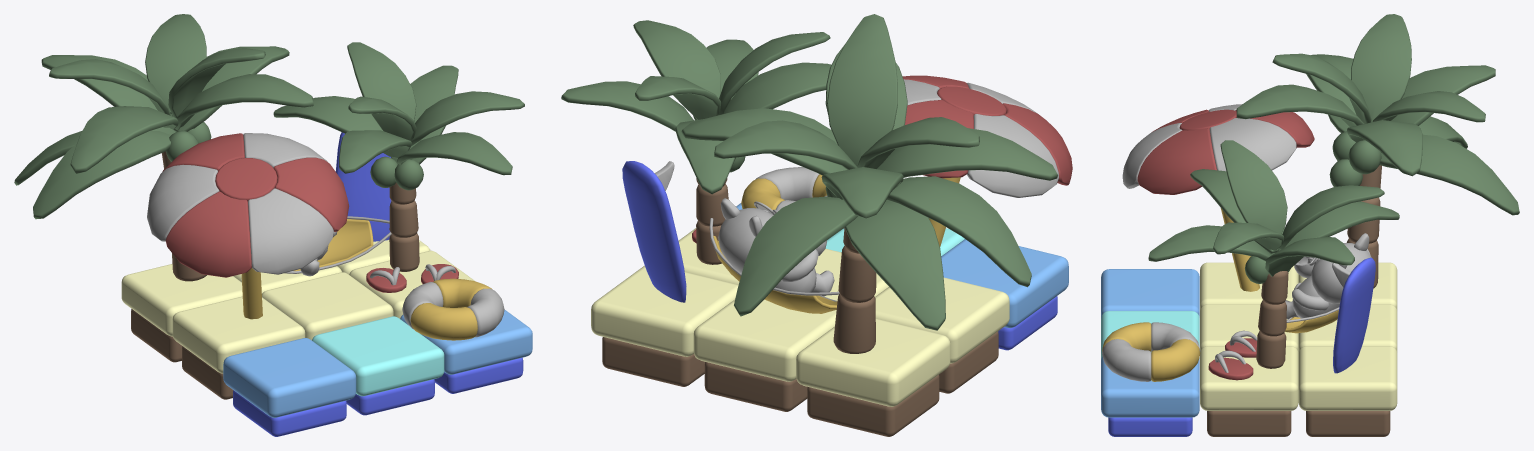
File: PalmTreeHammock_Fix.fbx
The picture shows the model from 3 angles, left to right: view 1: azimuth 30°, elevation 25°; view 2: azimuth 150°, elevation 25°; view 3: azimuth 270°, elevation 25°; orthographic projection. The views are drawn at different scales.
Parts seen in each view (by area): view 1: M_PalmTreeHammock_14, M_PalmTreeHammock_11, M_PalmTreeHammock_12, S_PalmTreeHammock_33, S_PalmTreeHammock_27, M_PalmTreeHammock_10, M_PalmTreeHammock_17, S_PalmTreeHammock_12, S_PalmTreeHammock_17, S_PalmTreeHammock_18, M_PalmTreeHammock_15, S_PalmTreeHammock_32 (+37 smaller); view 2: M_PalmTreeHammock_17, M_PalmTreeHammock_18, S_PalmTreeHammock_16, S_PalmTreeHammock_11, M_PalmTreeHammock_16, S_PalmTreeHammock_10, S_PalmTreeHammock_12, M_PalmTreeHammock_3, M_PalmTreeHammock_14, M_PalmTreeHammock_12, S_PalmTreeHammock_17, M_PalmTreeHammock_28 (+33 smaller); view 3: M_PalmTreeHammock_18, M_PalmTreeHammock_13, S_PalmTreeHammock_15, M_PalmTreeHammock_14, M_PalmTreeHammock_15, S_PalmTreeHammock_23, S_PalmTreeHammock_10, S_PalmTreeHammock_31, M_PalmTreeHammock_3, S_PalmTreeHammock_29, S_PalmTreeHammock_19, S_PalmTreeHammock_38 (+36 smaller).
Part boxes in pixels (box(x1,y1,x2,y2)): M_PalmTreeHammock_14: box(223, 338, 356, 417); M_PalmTreeHammock_11: box(312, 316, 444, 396); M_PalmTreeHammock_12: box(172, 296, 305, 373); S_PalmTreeHammock_33: box(165, 191, 251, 277); S_PalmTreeHammock_27: box(248, 188, 333, 274); M_PalmTreeHammock_10: box(262, 272, 393, 340); M_PalmTreeHammock_17: box(121, 264, 242, 336); S_PalmTreeHammock_12: box(33, 130, 170, 219); S_PalmTreeHammock_17: box(70, 106, 178, 173); S_PalmTreeHammock_18: box(145, 14, 206, 114); M_PalmTreeHammock_15: box(400, 310, 532, 374); S_PalmTreeHammock_32: box(147, 164, 219, 241); M_PalmTreeHammock_17: box(796, 318, 950, 406); M_PalmTreeHammock_18: box(591, 265, 738, 356); S_PalmTreeHammock_16: box(827, 14, 897, 166); S_PalmTreeHammock_11: box(845, 200, 945, 330); M_PalmTreeHammock_16: box(693, 299, 836, 381); S_PalmTreeHammock_10: box(734, 196, 857, 316); S_PalmTreeHammock_12: box(886, 176, 1031, 287); M_PalmTreeHammock_3: box(622, 161, 686, 302); M_PalmTreeHammock_14: box(941, 239, 1068, 328); M_PalmTreeHammock_12: box(875, 277, 1009, 363); S_PalmTreeHammock_17: box(877, 128, 1057, 180); M_PalmTreeHammock_28: box(807, 375, 939, 436); M_PalmTreeHammock_18: box(1298, 346, 1397, 410); M_PalmTreeHammock_13: box(1200, 346, 1298, 410); S_PalmTreeHammock_15: box(1351, 14, 1411, 122); M_PalmTreeHammock_14: box(1101, 269, 1199, 318); M_PalmTreeHammock_15: box(1101, 356, 1199, 417); S_PalmTreeHammock_23: box(1220, 140, 1287, 234); S_PalmTreeHammock_10: box(1380, 134, 1519, 215); S_PalmTreeHammock_31: box(1137, 128, 1216, 194); M_PalmTreeHammock_3: box(1333, 257, 1375, 373); S_PalmTreeHammock_29: box(1209, 118, 1296, 171); S_PalmTreeHammock_19: box(1236, 84, 1364, 126); S_PalmTreeHammock_38: box(1285, 233, 1371, 319).
Size of the model in its own units: 616 by 435 by 556.
